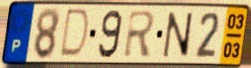2: (193, 11, 221, 60)
8: (32, 6, 61, 62)
9: (97, 8, 124, 60)
D: (57, 8, 91, 61)
N: (161, 10, 194, 59)
R: (122, 10, 158, 60)
